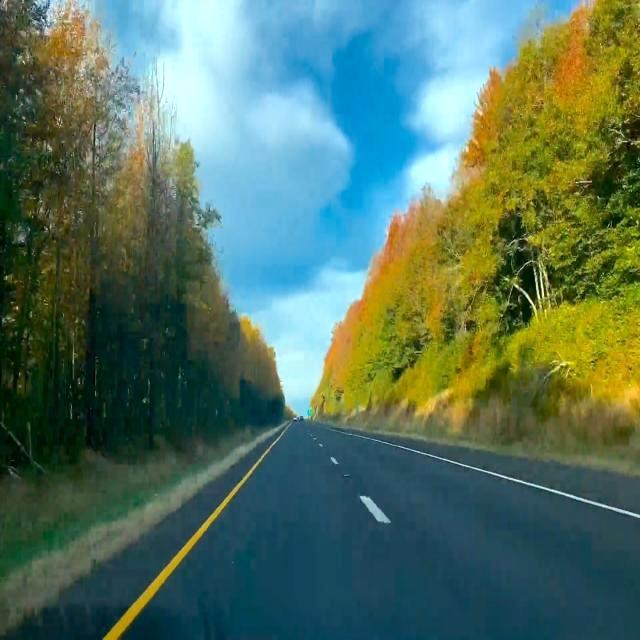lane: (102, 424, 291, 639), (330, 429, 640, 519), (359, 496, 389, 523)
road: (122, 423, 639, 639)
